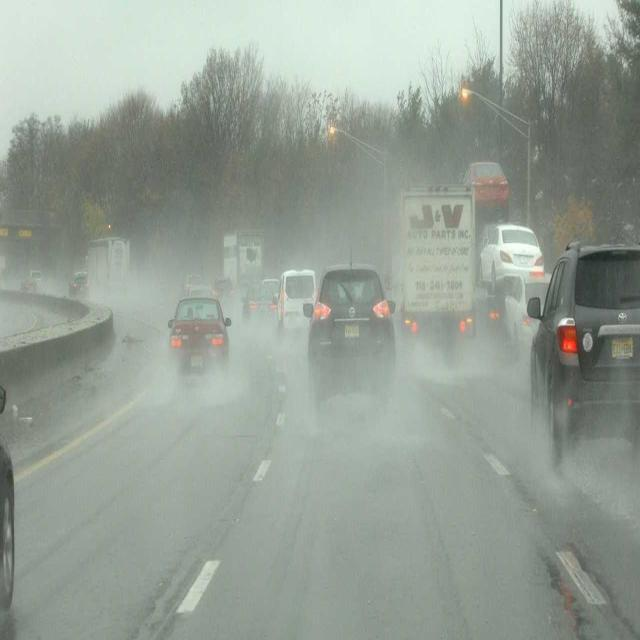Car: (527, 241, 640, 466), (303, 265, 400, 417), (168, 291, 230, 386), (479, 220, 544, 296), (502, 272, 553, 352), (460, 161, 510, 220), (240, 287, 278, 329), (68, 269, 90, 299)
Truck: (400, 184, 477, 362), (272, 265, 316, 336), (221, 225, 267, 292), (87, 235, 131, 302)
